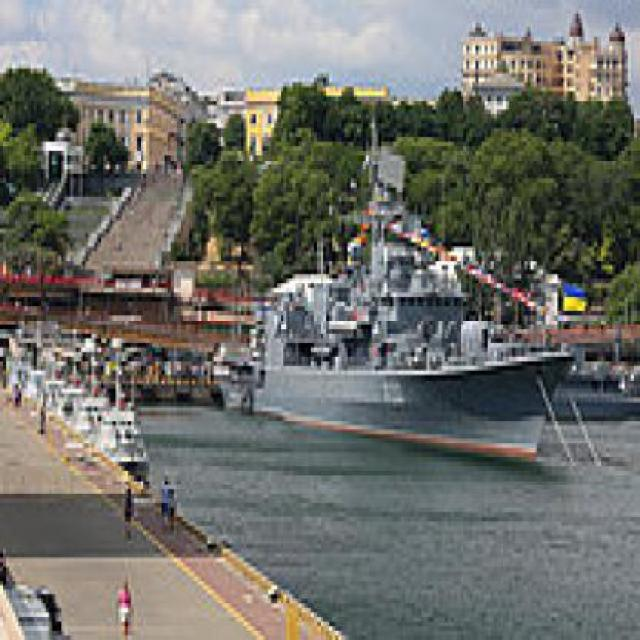warship2: (236, 179, 568, 472)
